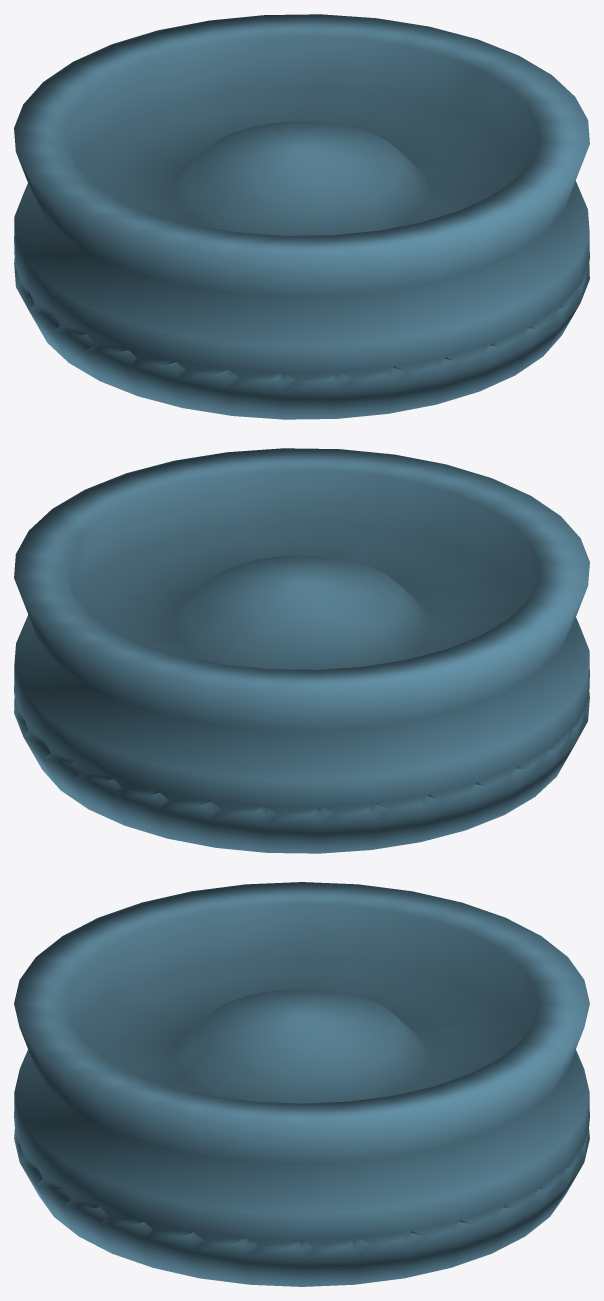
The picture shows the model from 3 angles, top to bottom: view 1: azimuth 30°, elevation 25°; view 2: azimuth 150°, elevation 25°; view 3: azimuth 270°, elevation 25°; orthographic projection.
Parts seen in each view (by area): view 1: alt6.054; view 2: alt6.054; view 3: alt6.054.
Boxes of the visible parts, box(x1,y1,x2,y2) form: alt6.054: box(14, 14, 589, 419); alt6.054: box(14, 448, 589, 853); alt6.054: box(14, 882, 589, 1286).
Bounding box in the file's own units: 0.5 × 0.1626 × 0.5.
